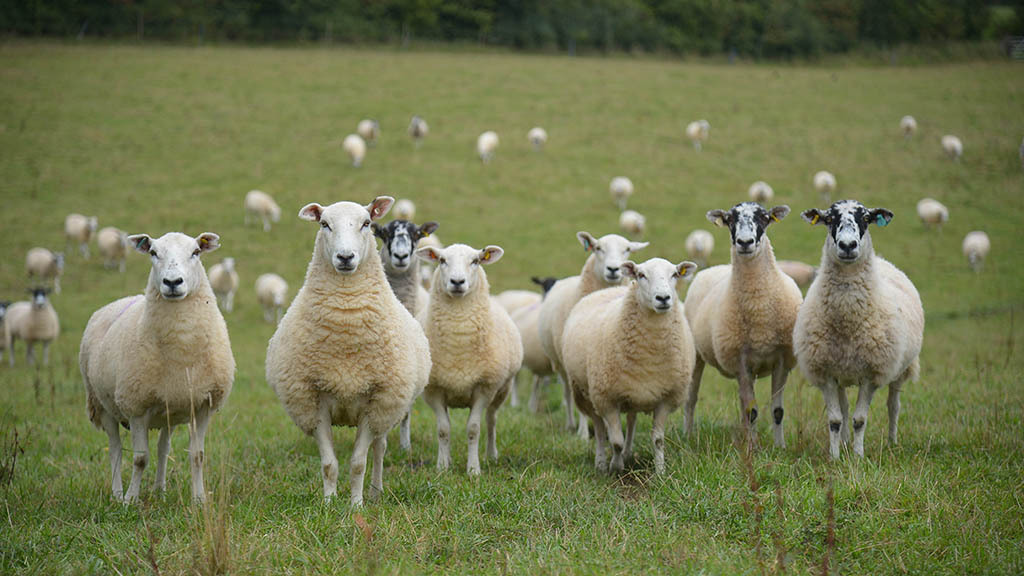koyun: (270, 201, 408, 517), (84, 233, 233, 511), (794, 202, 924, 454), (685, 203, 796, 455), (412, 247, 529, 479), (576, 265, 696, 466), (580, 233, 645, 284)
